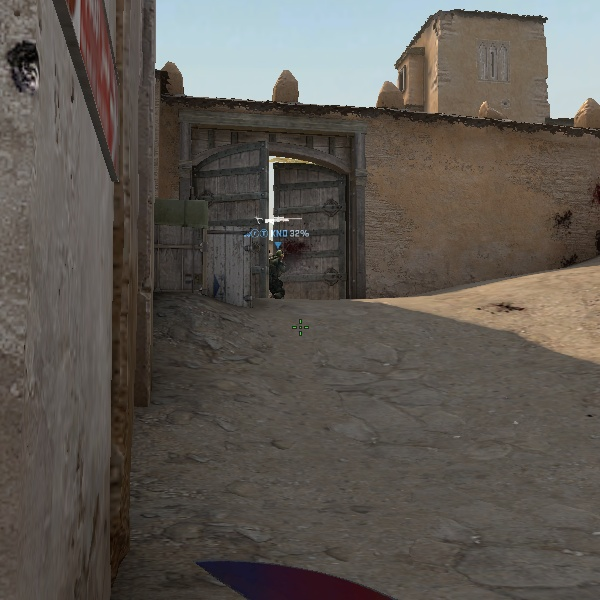ct_body: (264, 241, 292, 300)
ct_head: (273, 247, 289, 265)
